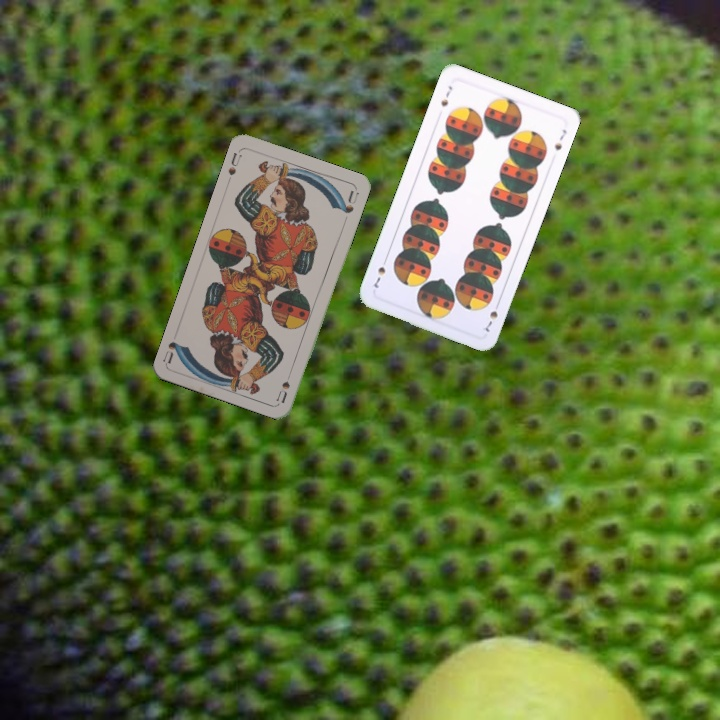S7: (481, 297, 502, 335), (437, 81, 455, 109)
SU: (272, 377, 293, 405), (224, 149, 244, 178)
